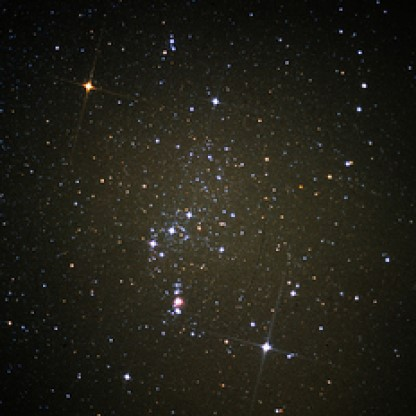Orion: (243, 320, 306, 379), (71, 56, 111, 113), (116, 362, 142, 391), (139, 230, 167, 256), (205, 84, 225, 117), (166, 214, 184, 241), (180, 199, 195, 225)
